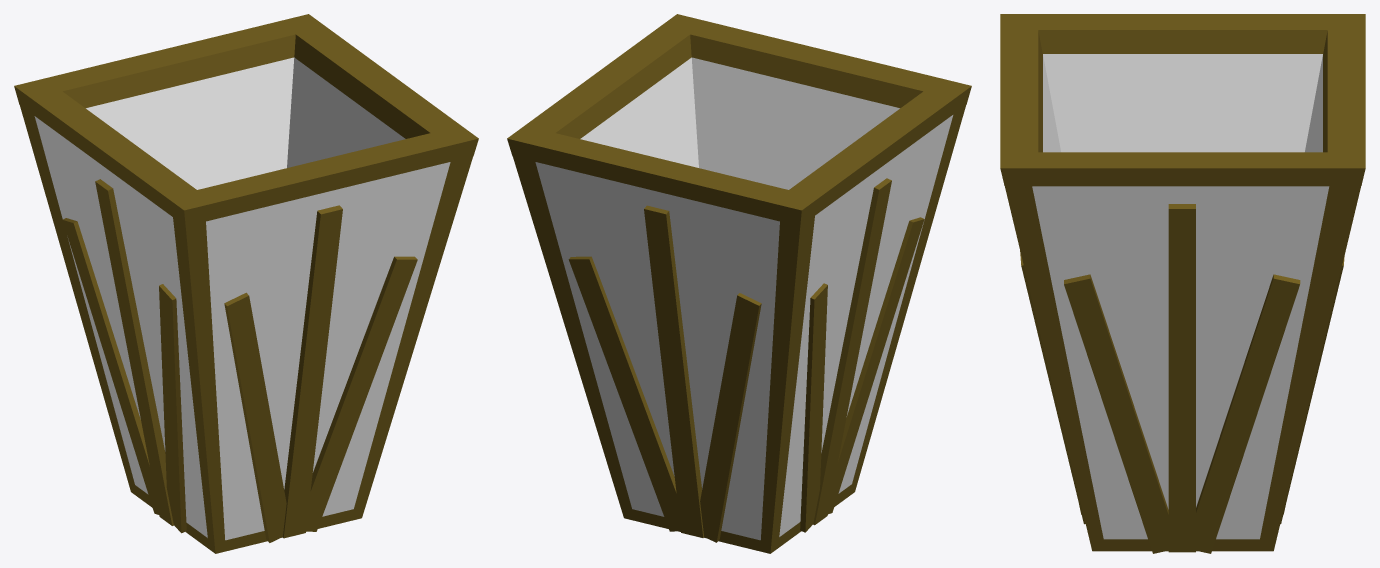
The model's file is SmallVase.fbx.
The picture shows the model from 3 angles, left to right: view 1: azimuth 30°, elevation 25°; view 2: azimuth 150°, elevation 25°; view 3: azimuth 270°, elevation 25°; orthographic projection. The views are drawn at different scales.
Visible parts, largest first — view 1: pCube1, pasted__pasted__OuterDetails, pasted__pasted__OuterDetails2, pasted__pasted__OuterDetails1, pasted__OuterDetails, pasted__OuterDetails2, pasted__OuterDetails1; view 2: pCube1, pasted__pasted__pasted__OuterDetails, pasted__pasted__pasted__OuterDetails1, pasted__pasted__pasted__OuterDetails2, pasted__OuterDetails, pasted__OuterDetails1, pasted__OuterDetails2; view 3: pCube1, OuterDetails, OuterDetails1, OuterDetails2, pasted__pasted__OuterDetails2, pasted__pasted__pasted__OuterDetails1.
Boxes of the visible parts, x1=… form: pCube1: x1=14, y1=14, x2=478, y2=553; pasted__pasted__OuterDetails: x1=282, y1=205, x2=342, y2=538; pasted__pasted__OuterDetails2: x1=306, y1=256, x2=417, y2=531; pasted__pasted__OuterDetails1: x1=224, y1=292, x2=286, y2=542; pasted__OuterDetails: x1=95, y1=179, x2=173, y2=525; pasted__OuterDetails2: x1=159, y1=284, x2=186, y2=533; pasted__OuterDetails1: x1=62, y1=218, x2=158, y2=514; pCube1: x1=507, y1=14, x2=971, y2=553; pasted__pasted__pasted__OuterDetails: x1=644, y1=205, x2=703, y2=537; pasted__pasted__pasted__OuterDetails1: x1=568, y1=256, x2=680, y2=531; pasted__pasted__pasted__OuterDetails2: x1=700, y1=293, x2=761, y2=542; pasted__OuterDetails: x1=813, y1=178, x2=891, y2=525; pasted__OuterDetails1: x1=800, y1=283, x2=827, y2=532; pasted__OuterDetails2: x1=828, y1=217, x2=924, y2=514; pCube1: x1=1000, y1=14, x2=1365, y2=551; OuterDetails: x1=1168, y1=204, x2=1195, y2=552; OuterDetails1: x1=1064, y1=274, x2=1168, y2=553; OuterDetails2: x1=1196, y1=274, x2=1300, y2=553; pasted__pasted__OuterDetails2: x1=1020, y1=250, x2=1085, y2=524; pasted__pasted__pasted__OuterDetails1: x1=1280, y1=256, x2=1344, y2=523.
Size of the model in its own units: 2.01 by 2.56 by 2.01.
